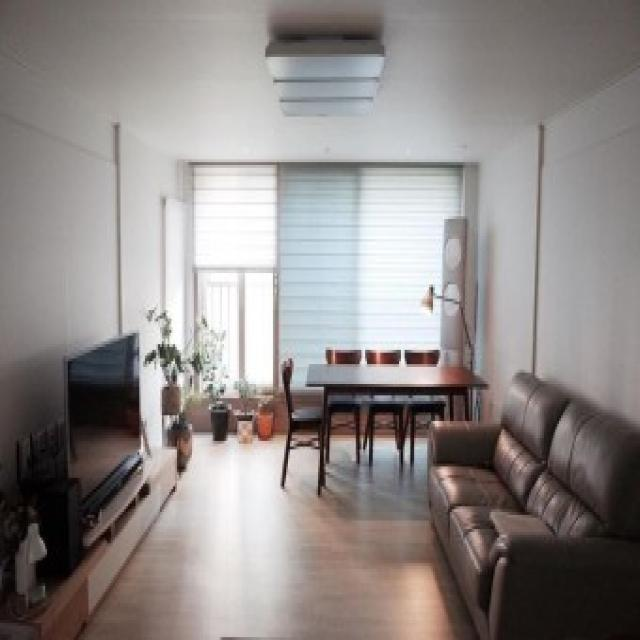Chair: (276, 360, 330, 495)
Sofa: (424, 367, 640, 640)
Table: (304, 352, 482, 493)
tv: (56, 330, 154, 506)
window: (191, 162, 481, 358)
